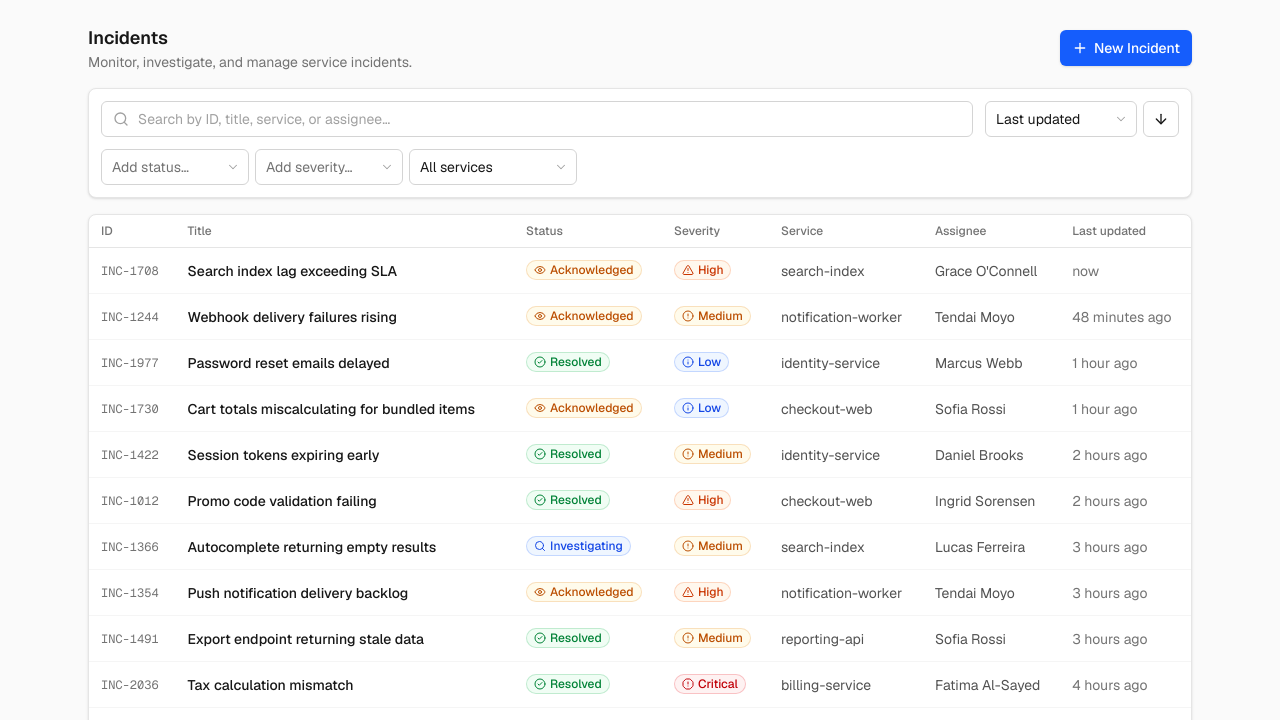
Test: IncidentListView › writes the search term to the URL and narrows the results
Step 1. Type "payments-api" into the field named "Search incidents" → (537, 119), box [101,101,973,137]
(page scrolled)
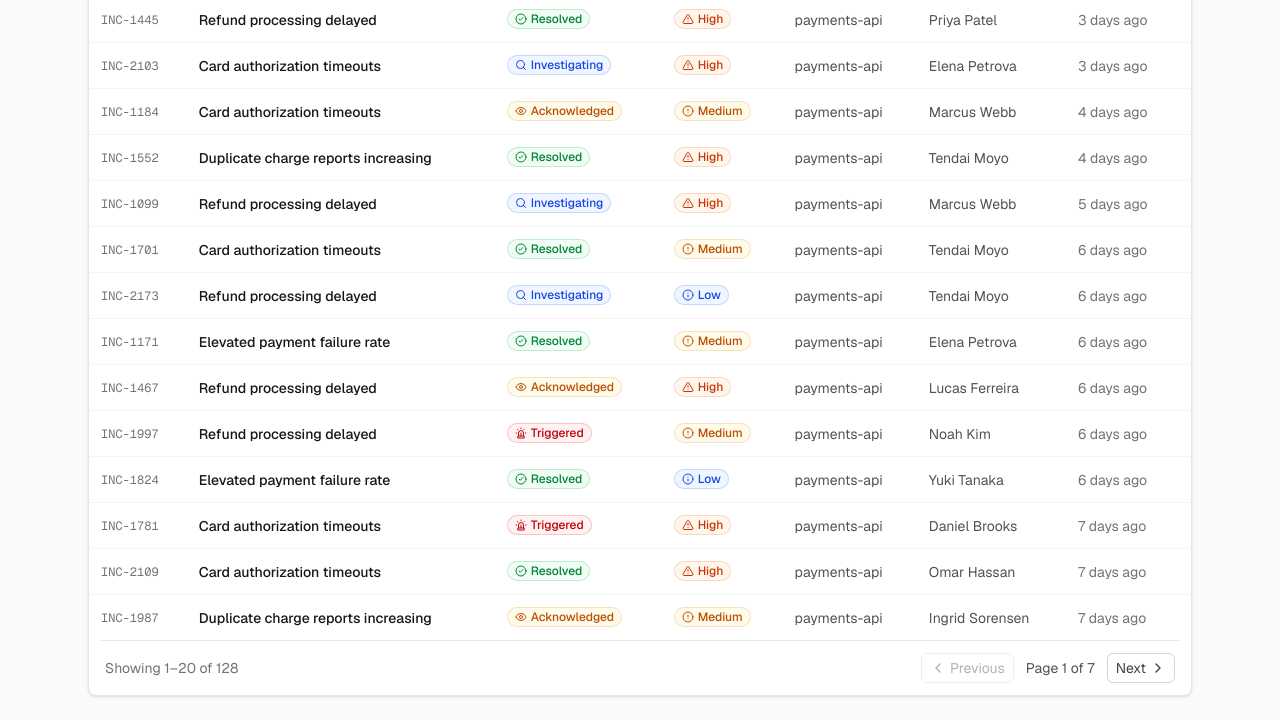
Result: the text "payments-api" in the row of "INC-1445" is shown at [795,10,883,28]
Result: the text "payments-api" in the row of "INC-2103" is shown at [795,56,883,74]
Result: the text "payments-api" in the row of "INC-1184" is shown at [795,102,883,120]
